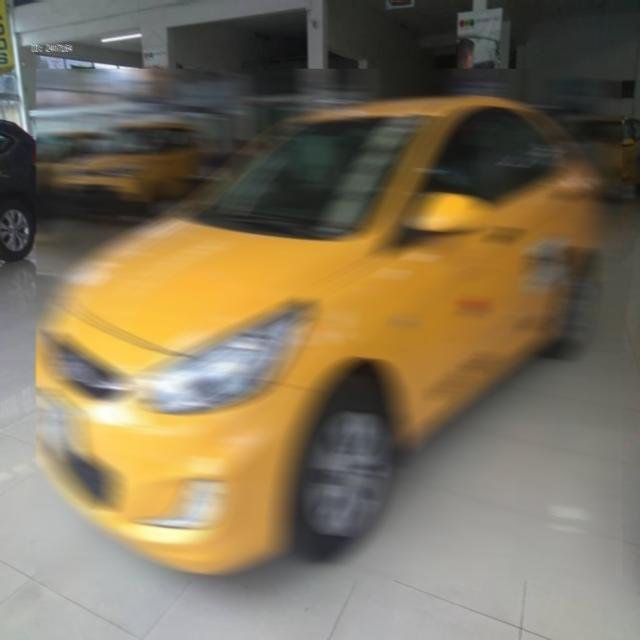Taxi: (36, 68, 622, 580)
